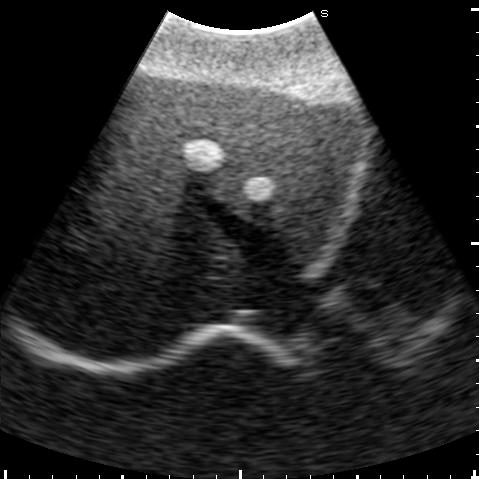S2: (291, 159, 347, 262)
S4: (126, 78, 323, 226)
S7: (39, 248, 213, 362)
S8: (80, 116, 238, 289)
Tumor: (180, 139, 224, 174), (241, 177, 276, 202)
